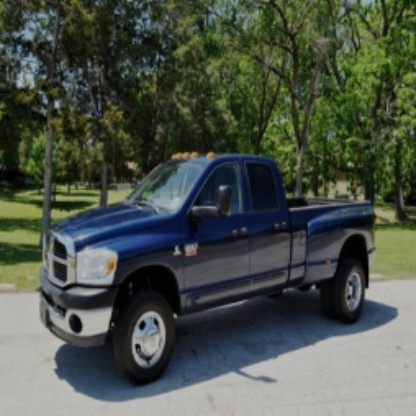Vehicle: (41, 154, 377, 386)
